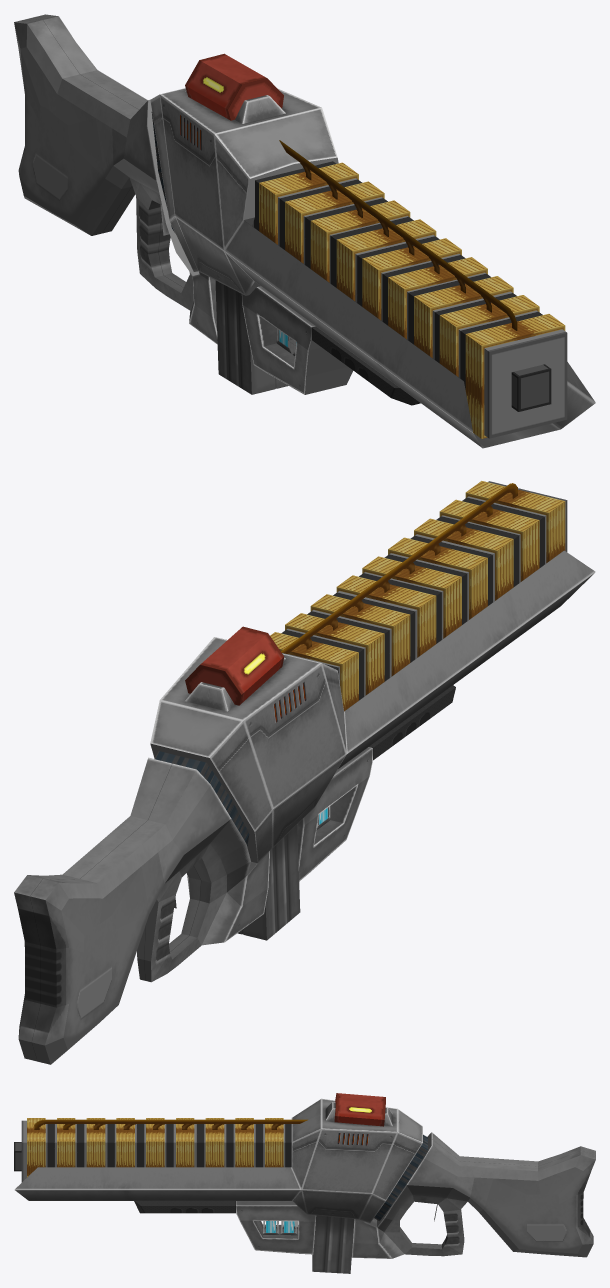
Rendered from FPSPacMan - Railgun.fbx.
The picture shows the model from 3 angles, top to bottom: view 1: azimuth 30°, elevation 25°; view 2: azimuth 150°, elevation 25°; view 3: azimuth 270°, elevation 25°; orthographic projection. The views are drawn at different scales.
Visible parts, largest first — view 1: Stock, Coils, Chasis, ProtectiveShield, ChargeBarrel, GripAttachment, Battery, Magazine, Cables, Barrel, Prong2; view 2: Stock, Chasis, Coils, ProtectiveShield, GripAttachment, ChargeBarrel, Battery, Magazine, Cables, Connector, Prong1; view 3: Stock, Chasis, ProtectiveShield, Coils, GripAttachment, ChargeBarrel, Magazine, Cables, Battery, Connector.
Boxes of the visible parts, x1,y1,x2,y2 form: Stock: (14,14,199,310); Coils: (259,162,565,438); Chasis: (150,88,338,295); ProtectiveShield: (224,220,595,448); ChargeBarrel: (252,161,567,438); GripAttachment: (189,272,420,405); Battery: (185,53,283,120); Magazine: (215,280,288,394); Cables: (279,140,517,330); Barrel: (511,364,551,411); Prong2: (235,95,285,123); Stock: (14,757,250,1064); Chasis: (150,637,346,863); Coils: (270,481,565,711); ProtectiveShield: (338,550,595,768); GripAttachment: (202,685,455,945); ChargeBarrel: (281,481,567,700); Battery: (185,626,284,705); Magazine: (237,825,300,940); Cables: (281,483,517,653); Connector: (154,751,249,845); Prong1: (185,682,234,711); Stock: (377,1132,595,1257); Chasis: (291,1098,422,1222); ProtectiveShield: (14,1167,301,1200); Coils: (27,1118,283,1177); GripAttachment: (134,1201,404,1258); ChargeBarrel: (21,1120,291,1182); Magazine: (312,1215,354,1273); Cables: (34,1119,307,1129); Battery: (334,1093,385,1126); Connector: (374,1134,427,1220).
Bounding box in the file's own units: 74.77 × 172 × 533.
